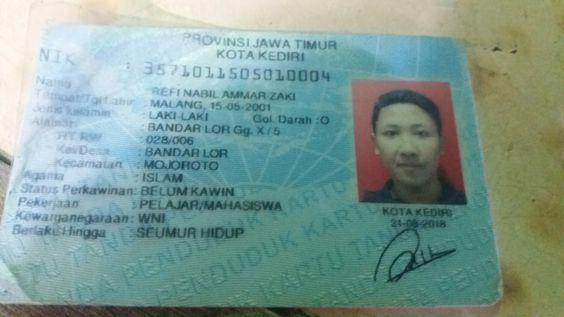ID-card: (1, 25, 507, 316)
